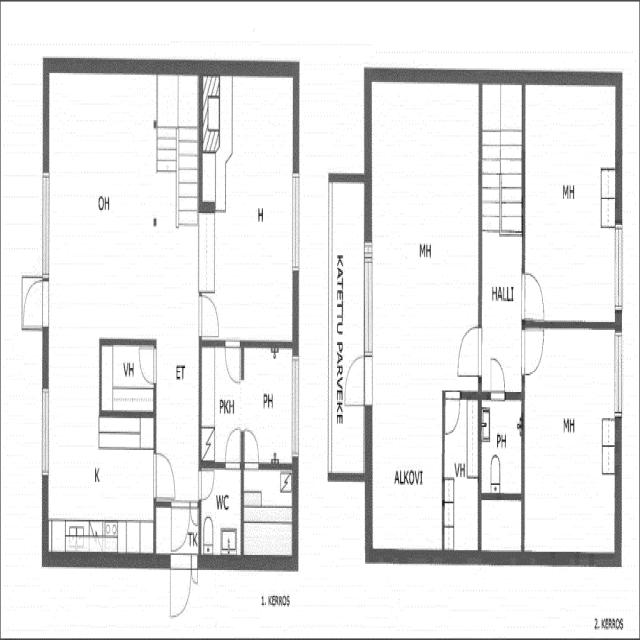door: (218, 403, 258, 467), (340, 351, 374, 412), (162, 499, 197, 554), (456, 322, 483, 382), (169, 558, 194, 618), (21, 278, 48, 331), (521, 323, 546, 377), (520, 269, 546, 320), (152, 448, 176, 503), (197, 292, 220, 343), (486, 348, 506, 405), (442, 386, 462, 437), (223, 423, 243, 471), (136, 342, 158, 385), (241, 423, 261, 470), (224, 335, 242, 386), (196, 464, 216, 504)
window: (362, 236, 375, 365), (38, 165, 52, 282), (289, 165, 302, 280), (38, 375, 51, 482), (290, 354, 302, 461), (612, 218, 625, 310), (612, 326, 624, 418)
zone: (43, 63, 202, 354), (370, 69, 481, 397), (199, 68, 297, 342), (524, 78, 618, 326), (523, 326, 617, 558), (44, 400, 155, 558), (198, 338, 299, 468), (370, 387, 444, 556), (480, 67, 523, 356), (242, 458, 295, 564), (444, 400, 479, 554), (480, 393, 522, 495), (200, 462, 242, 562), (99, 339, 156, 412), (478, 494, 524, 558), (164, 498, 194, 555)
